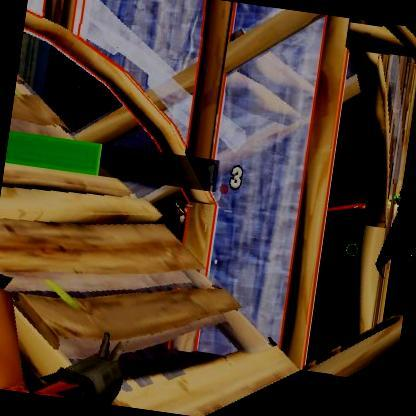person: (381, 162, 416, 307)
